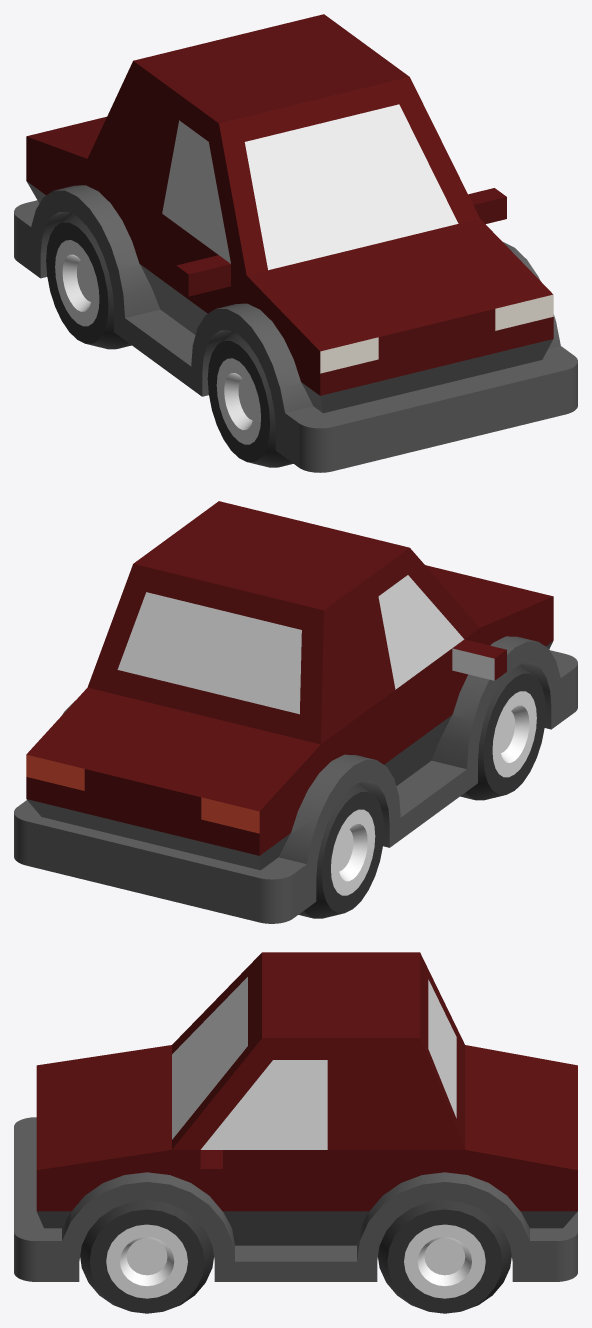
Rendered from sedan_darkred.fbx.
The picture shows the model from 3 angles, top to bottom: view 1: azimuth 30°, elevation 25°; view 2: azimuth 150°, elevation 25°; view 3: azimuth 270°, elevation 25°; orthographic projection. The views are drawn at different scales.
Visible parts, largest first — view 1: sedan; view 2: sedan; view 3: sedan.
Boxes of the visible parts, left/top/right/bottom form: sedan: left=14, top=14, right=577, bottom=472; sedan: left=14, top=501, right=577, bottom=923; sedan: left=14, top=952, right=577, bottom=1313.
Bounding box in the file's own units: 11.25 × 9.75 × 18.75.
